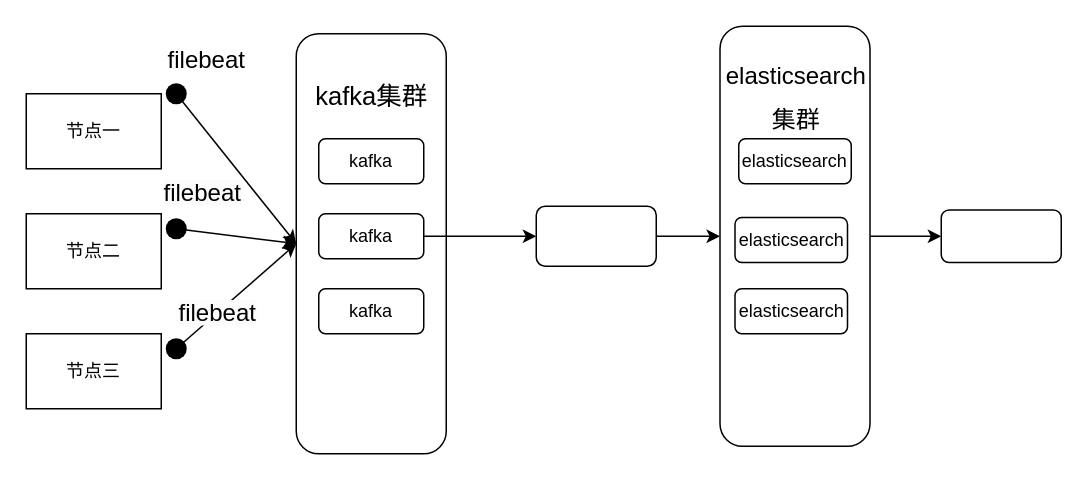
Some shapes in this 1088 by 480 pixel diagram are drawn without their labels. Here are the shapes that lost their labels. From the top down, the centre of each, then its label:
At point 595,235: "logstash".
At point 1000,235: "Kibana".
